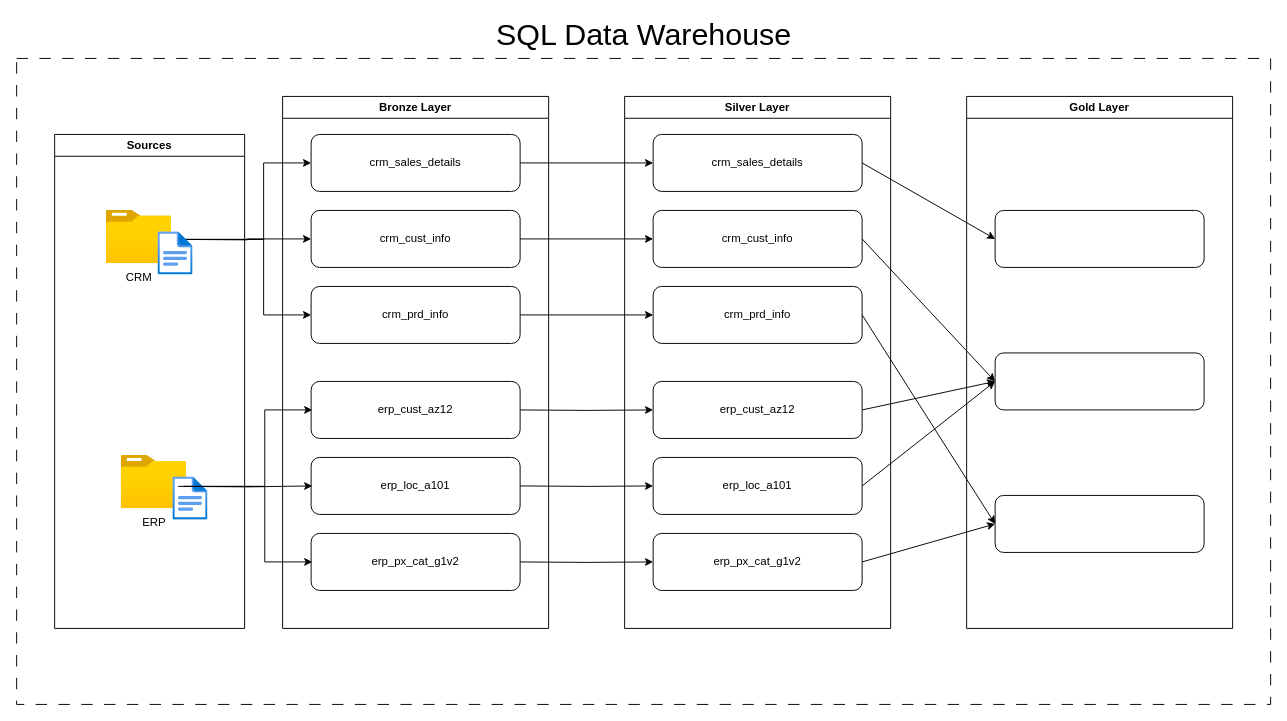
Image size: 1287x721. Some labels were removed from this diagram. The centre of each missing label's shape, as x and y in pixels:
"dim_customers" belongs at [1099,381].
"dim_products" belongs at [1099,523].
"fact_sales" belongs at [1099,238].
